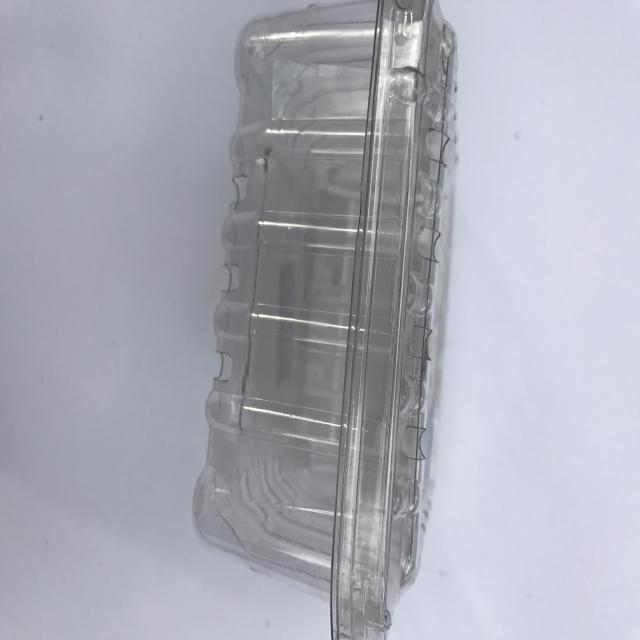plastic: (190, 5, 453, 640)
